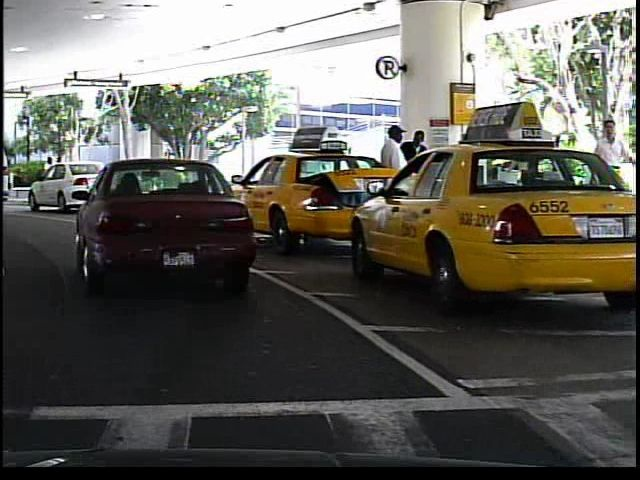person: (581, 114, 631, 239), (374, 123, 410, 237), (399, 123, 432, 229), (35, 152, 60, 195)
